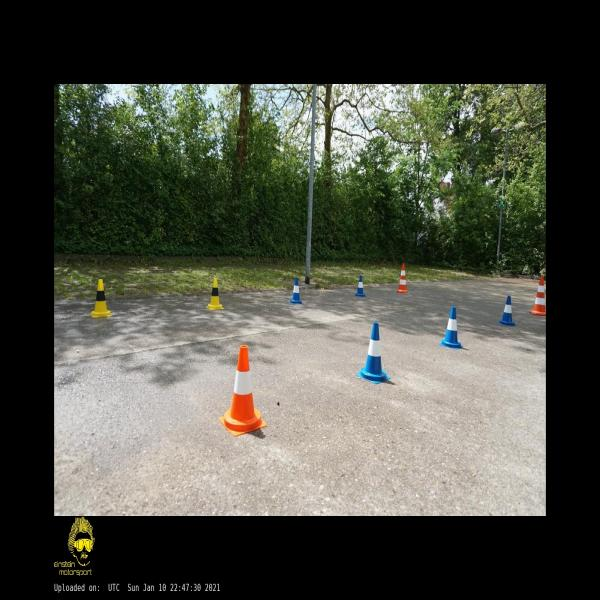blue_cone: (357, 323, 390, 384), (440, 306, 463, 349), (498, 296, 516, 326), (290, 278, 302, 304), (355, 277, 366, 297)
large_orange_cone: (530, 276, 545, 314), (397, 263, 408, 293)
orange_cone: (220, 345, 266, 436)
yellow_cone: (91, 279, 111, 317), (207, 278, 223, 309)
